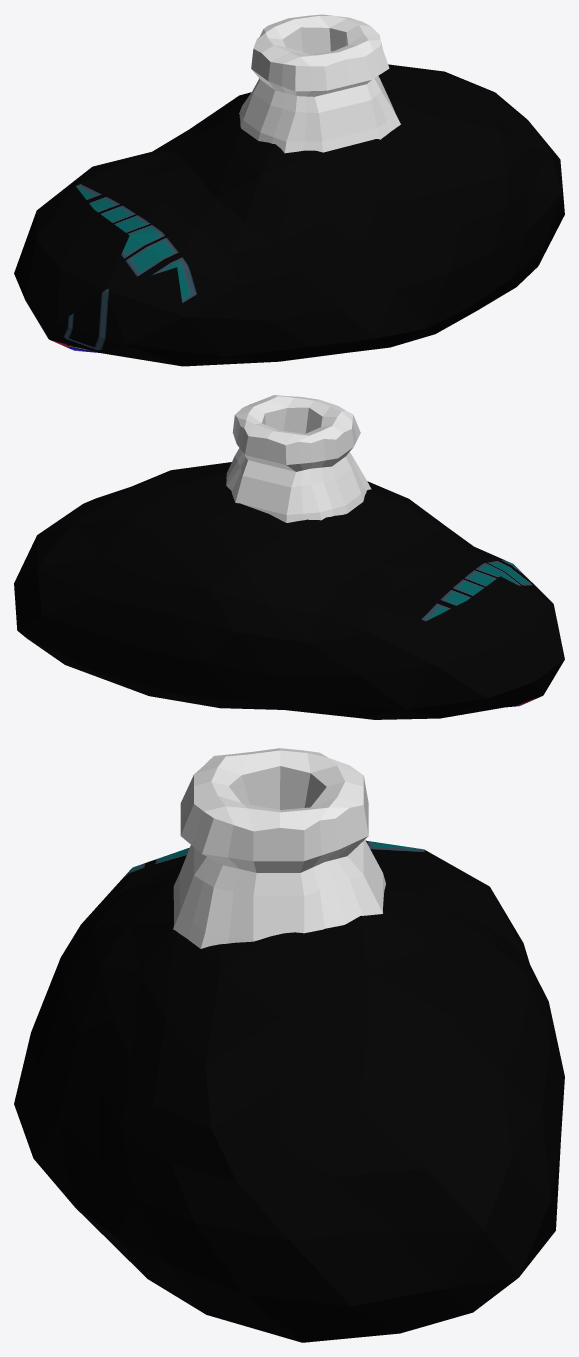
File: TestVase.fbx
3 views of the same model, one above another, from view 1: azimuth 30°, elevation 25°; view 2: azimuth 150°, elevation 25°; view 3: azimuth 270°, elevation 25° (orthographic). The views are drawn at different scales.
Visible parts, largest first — view 1: Stone1, Cube; view 2: Stone1, Cube; view 3: Stone1, Cube.
Boxes of the visible parts, x1,y1,x2,y2 form: Stone1: (14, 64, 564, 366); Cube: (239, 14, 400, 153); Stone1: (14, 462, 564, 719); Cube: (226, 395, 371, 522); Stone1: (14, 840, 564, 1342); Cube: (173, 748, 385, 948).
Size of the model in its own units: 274 by 140 by 166.
